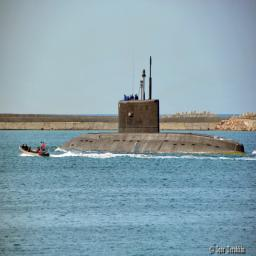submarine: (59, 91, 250, 156)
